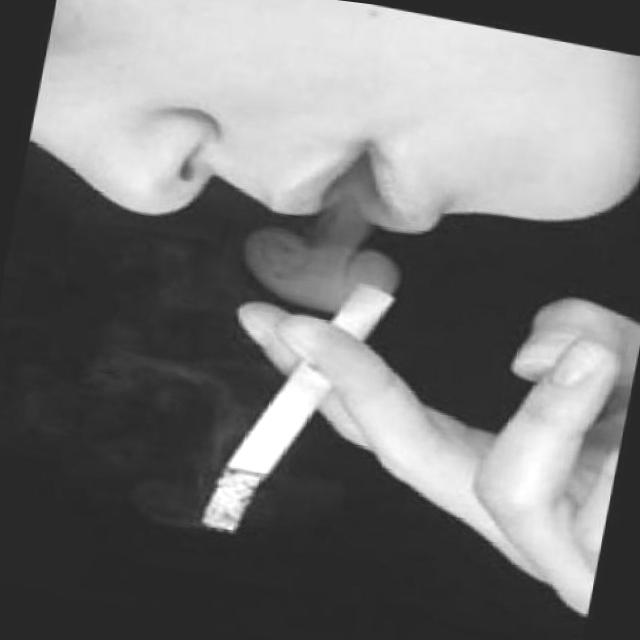smoke: (194, 258, 400, 562)
